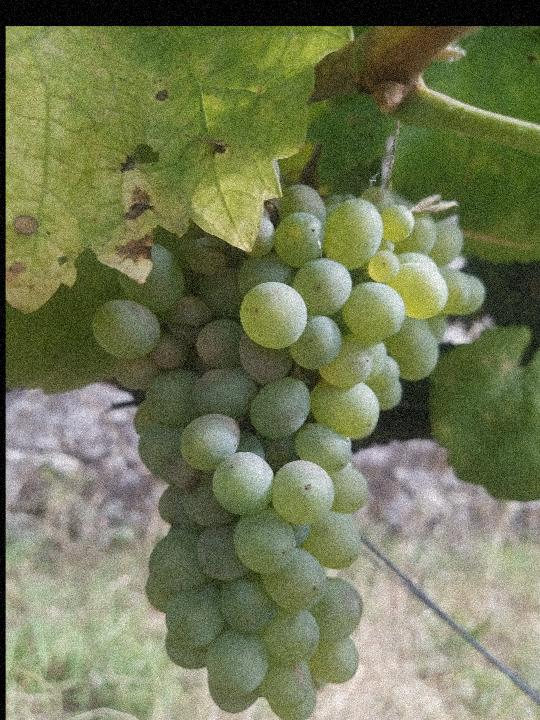grape: (91, 183, 490, 720)
